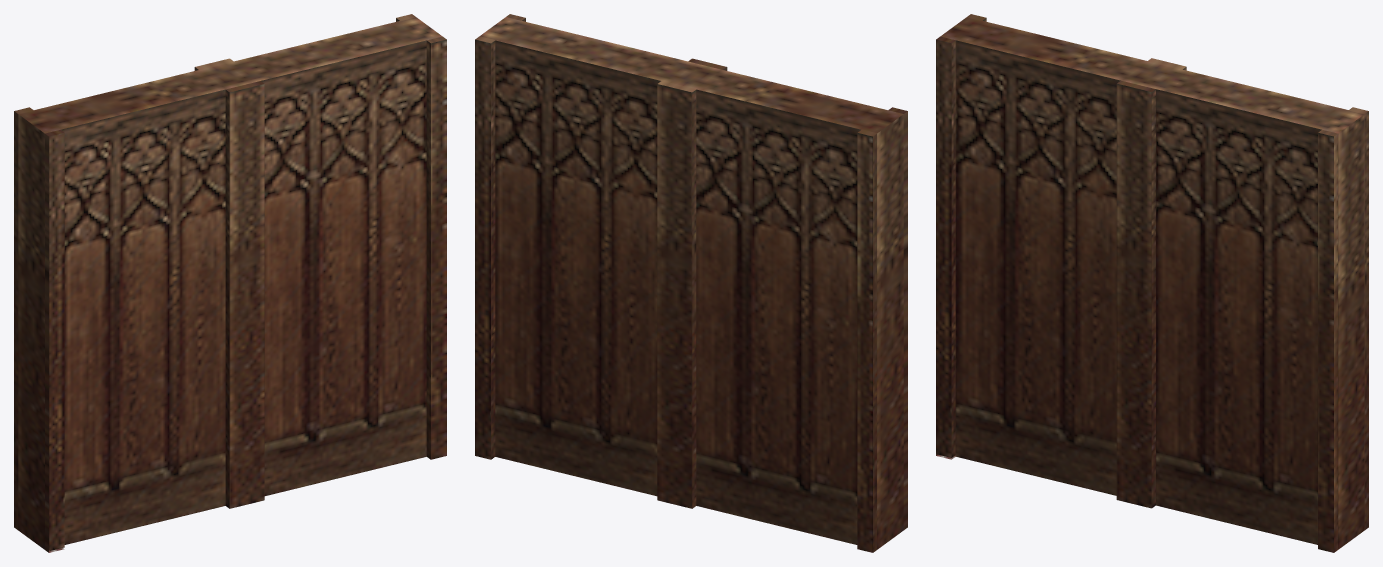
File: WoodWall.fbx
3 renders of one model, left to right at view 1: azimuth 30°, elevation 25°; view 2: azimuth 150°, elevation 25°; view 3: azimuth 330°, elevation 25°, orthographic.
Visible parts, largest first — view 1: Cube.004; view 2: Cube.004; view 3: Cube.004.
Boxes of the visible parts, x1,y1,x2,y2 form: Cube.004: (14,14,446,552); Cube.004: (475,14,907,552); Cube.004: (936,14,1368,552).
Bounding box in the file's own units: 371 × 371 × 56.36.
1 material, 1 textured.
